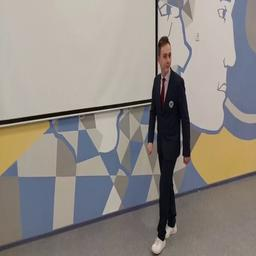person: (147, 38, 190, 253)
